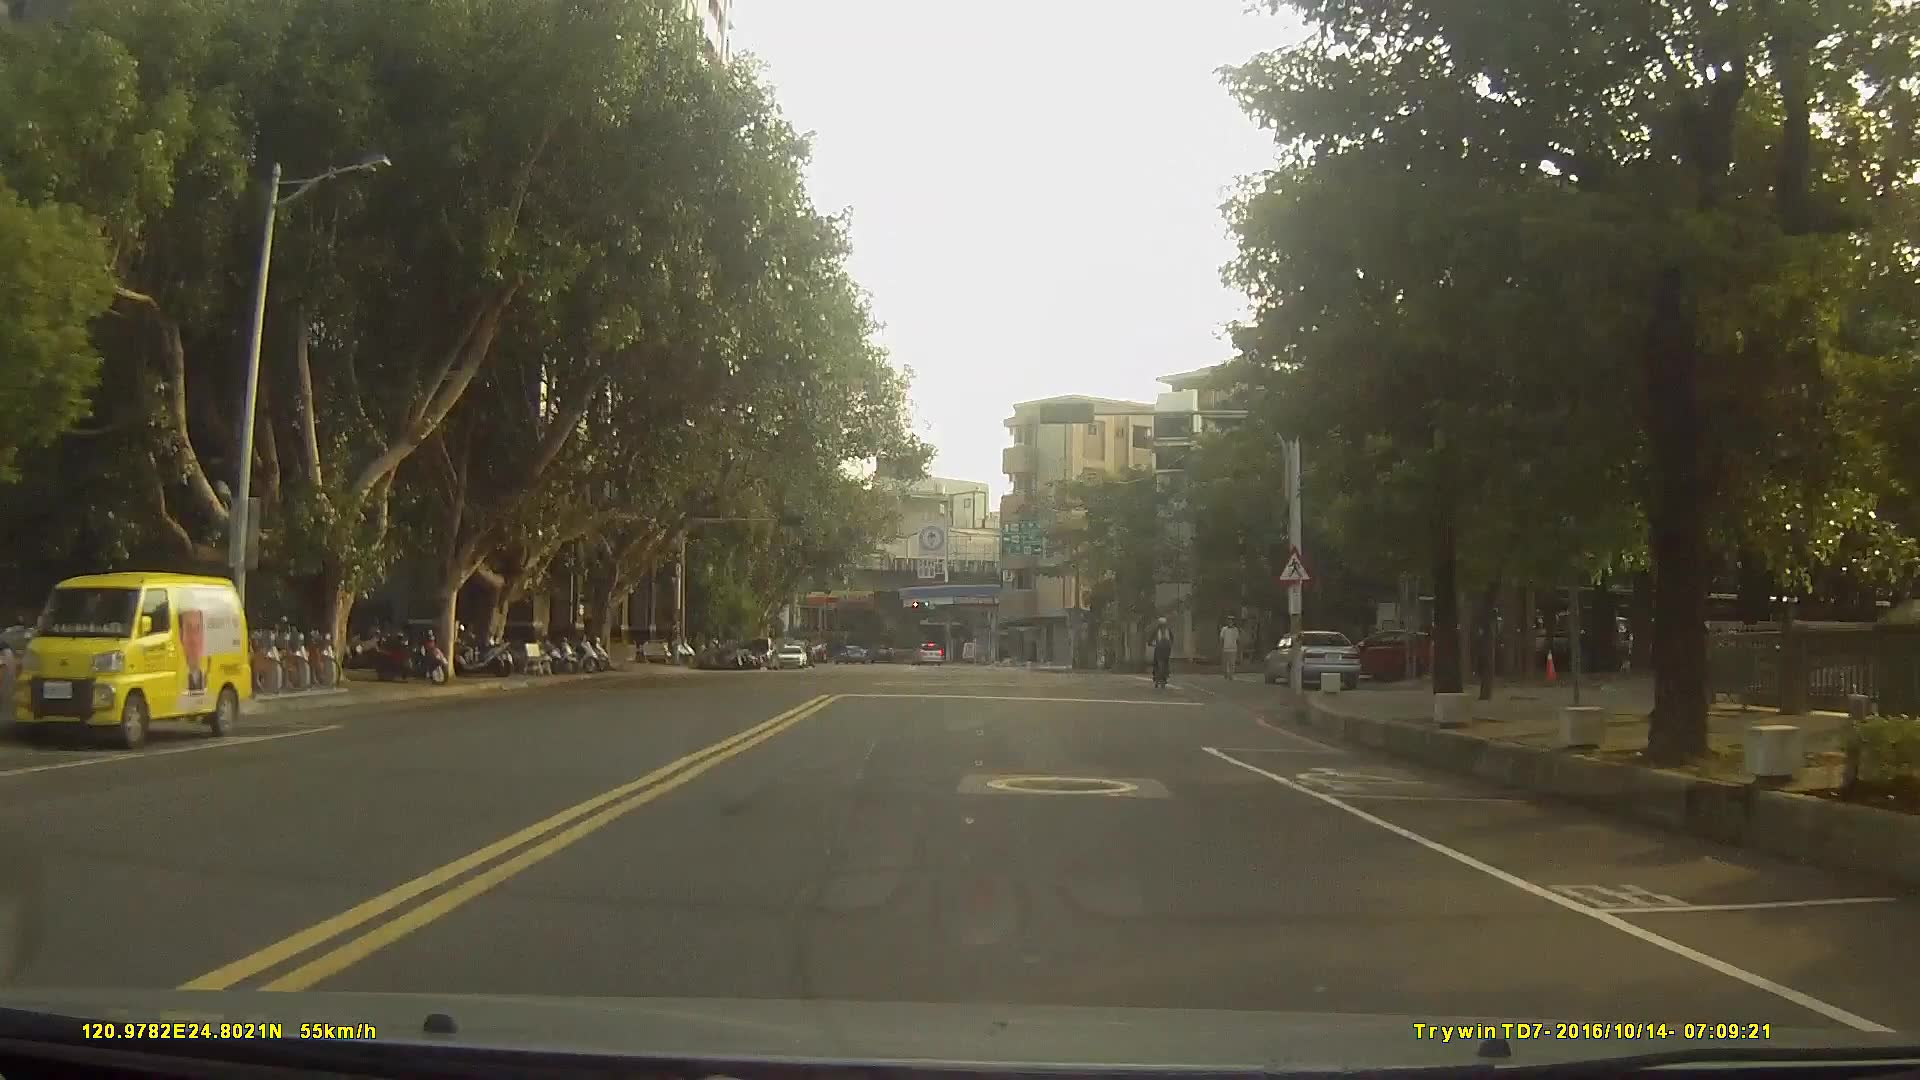pedestrian: (1217, 613, 1246, 685)
rider: (1151, 617, 1179, 692)
vehicle: (1262, 630, 1360, 690), (1333, 627, 1433, 682), (910, 640, 942, 664), (775, 644, 806, 667)
